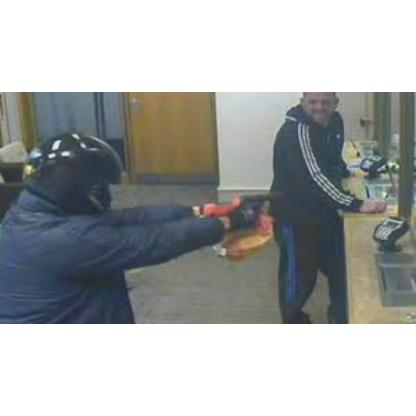gun: (232, 187, 286, 225)
